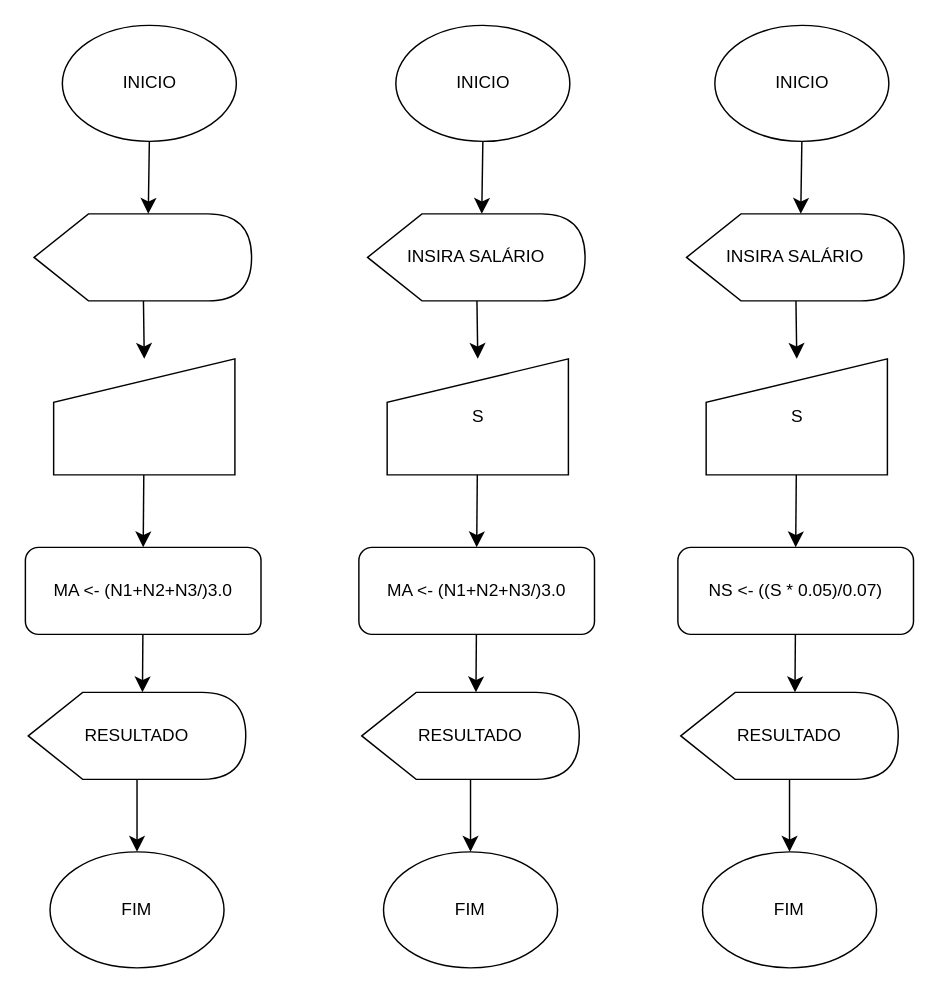
Image size: 940x993. Some labels were removed from this diagram. The centre of each missing label's shape, as x and y in pixels:
INSIRA NOTAS: point 142,256
N1, N2, N3, MA: point 143,416
